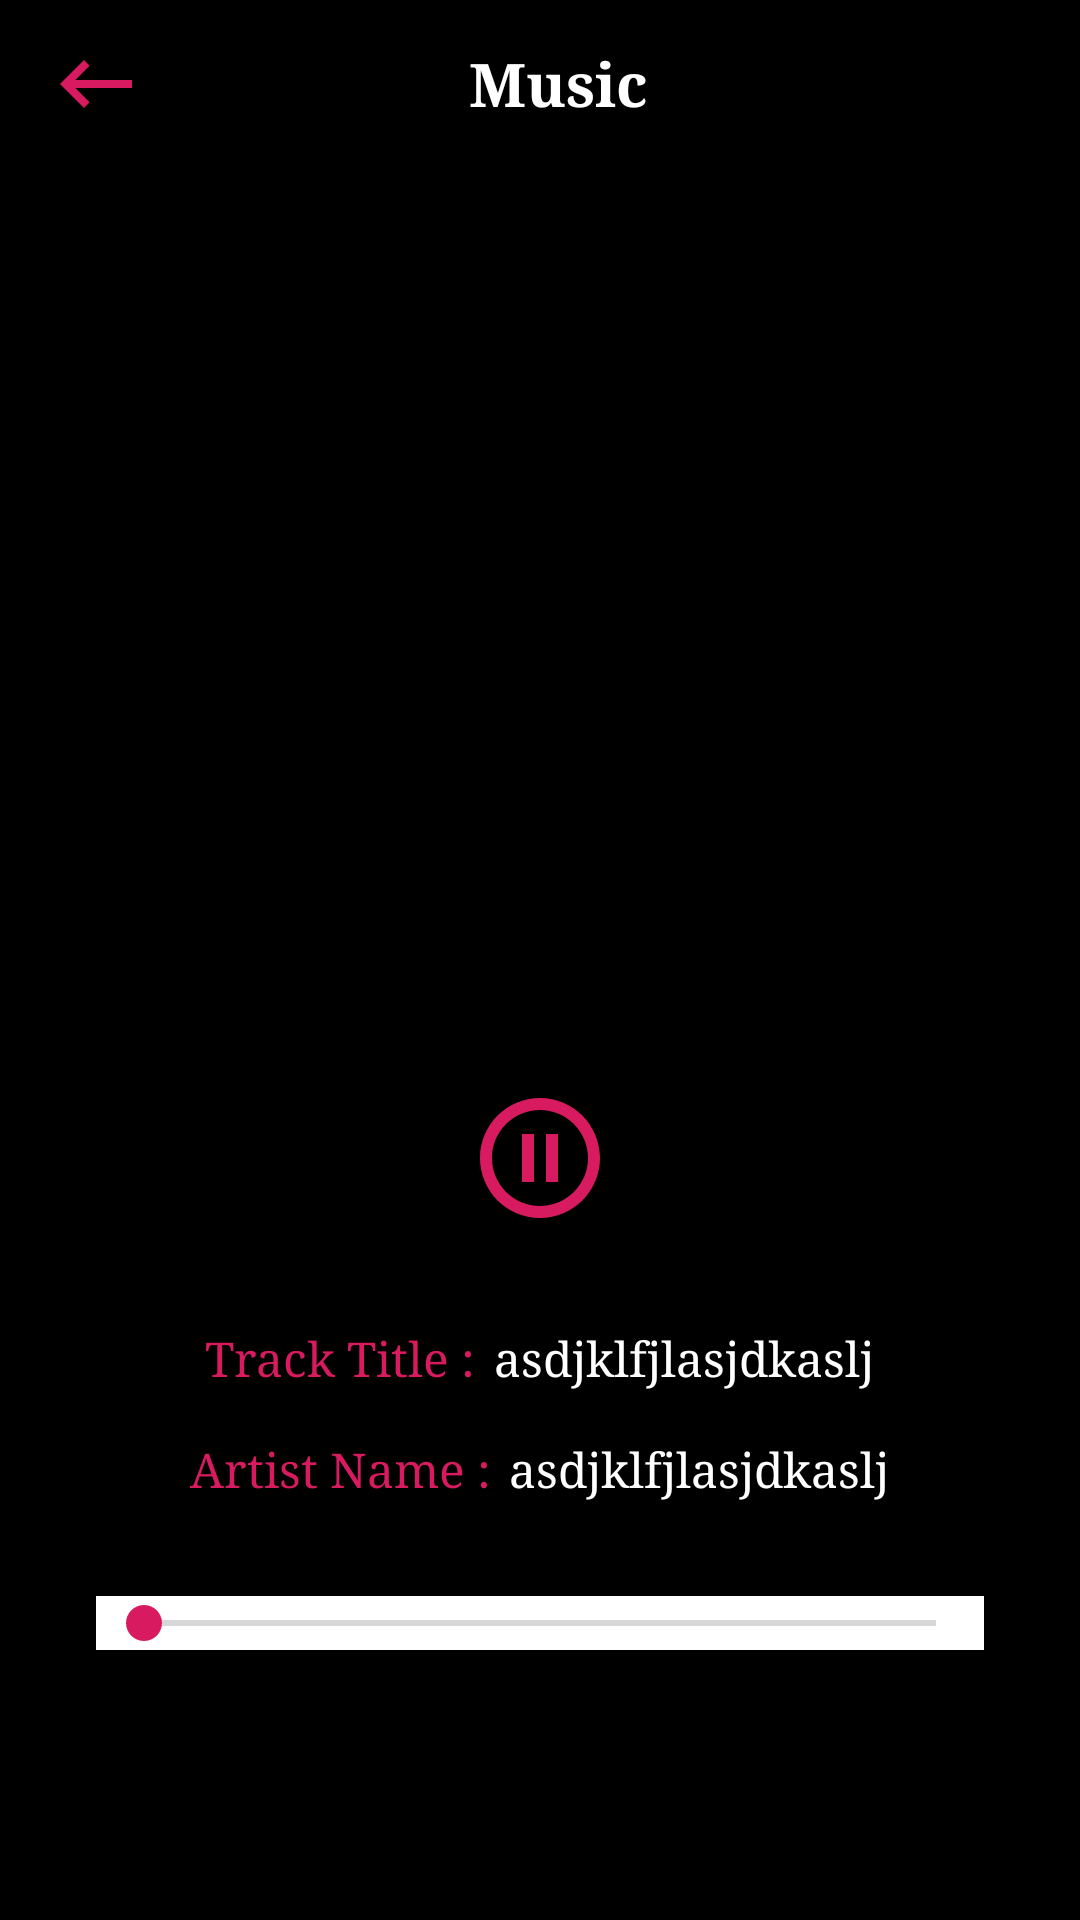

Icon click points for this 1080 × 1920 phone screenshot, format point (x, y):
pause circle: point (540, 1158)
